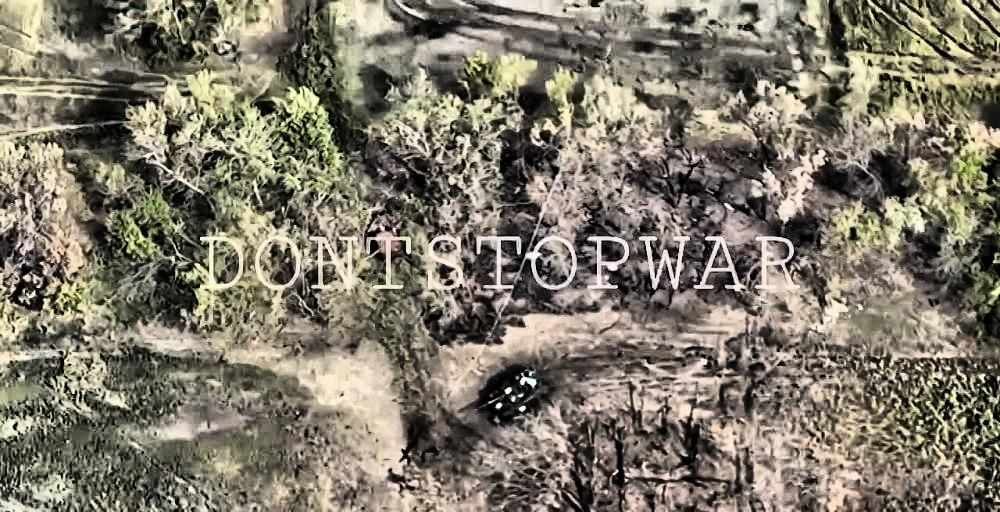military-vehicle: (475, 367, 550, 420)
